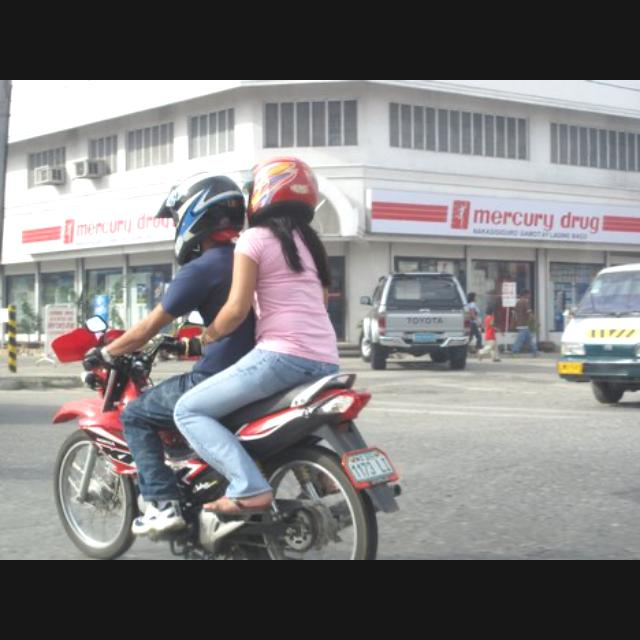With Helmet: (154, 166, 246, 254)
